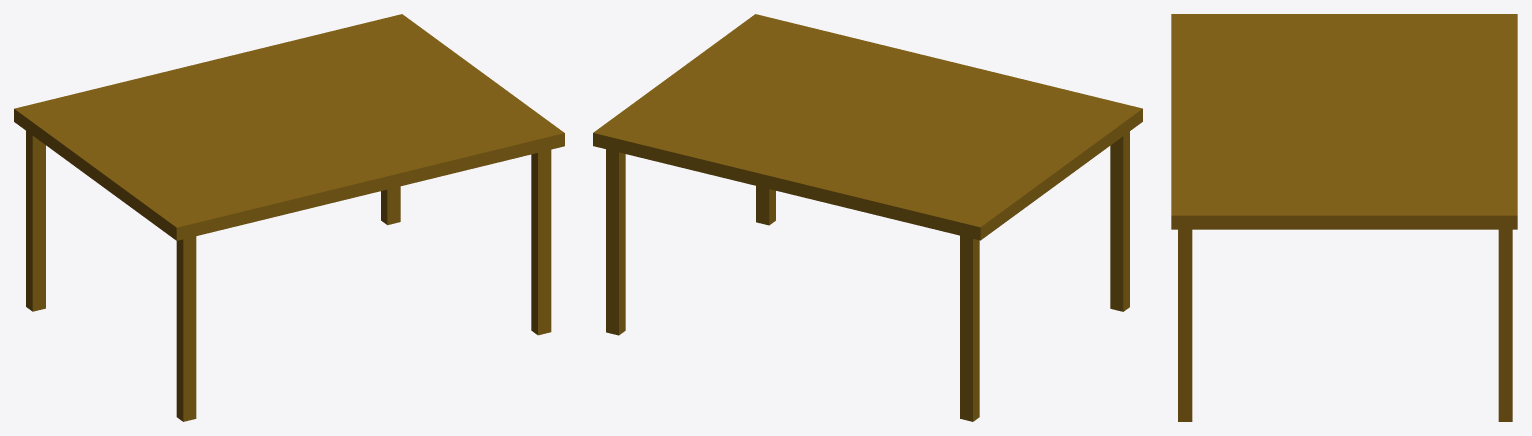
The model's file is table.fbx.
The picture shows the model from 3 angles, left to right: view 1: azimuth 30°, elevation 25°; view 2: azimuth 150°, elevation 25°; view 3: azimuth 270°, elevation 25°; orthographic projection. The views are drawn at different scales.
Parts seen in each view (by area): view 1: Cube.004, Cube.003, Cube, Cube.001, Cube.002; view 2: Cube.004, Cube.002, Cube.001, Cube, Cube.003; view 3: Cube.004, Cube.002, Cube.003.
Boxes of the visible parts, left/top/right/bottom form: Cube.004: left=14, top=14, right=564, bottom=240; Cube.003: left=531, top=149, right=551, bottom=335; Cube: left=176, top=236, right=196, bottom=421; Cube.001: left=26, top=131, right=45, bottom=311; Cube.002: left=381, top=186, right=400, bottom=225; Cube.004: left=593, top=14, right=1142, bottom=240; Cube.002: left=606, top=149, right=625, bottom=335; Cube.001: left=960, top=235, right=979, bottom=421; Cube: left=1110, top=131, right=1129, bottom=311; Cube.003: left=756, top=186, right=775, bottom=225; Cube.004: left=1171, top=14, right=1517, bottom=229; Cube.002: left=1498, top=229, right=1512, bottom=421; Cube.003: left=1178, top=229, right=1192, bottom=421.
Bounding box in the file's own units: 648 × 318 × 471.
